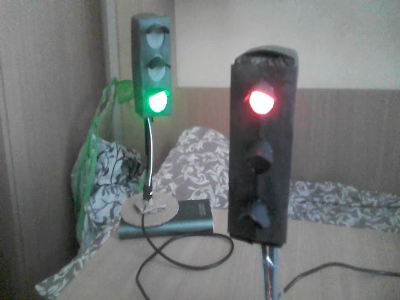trafficlight_green: (140, 15, 173, 114)
trafficlight_red: (230, 59, 297, 236)
